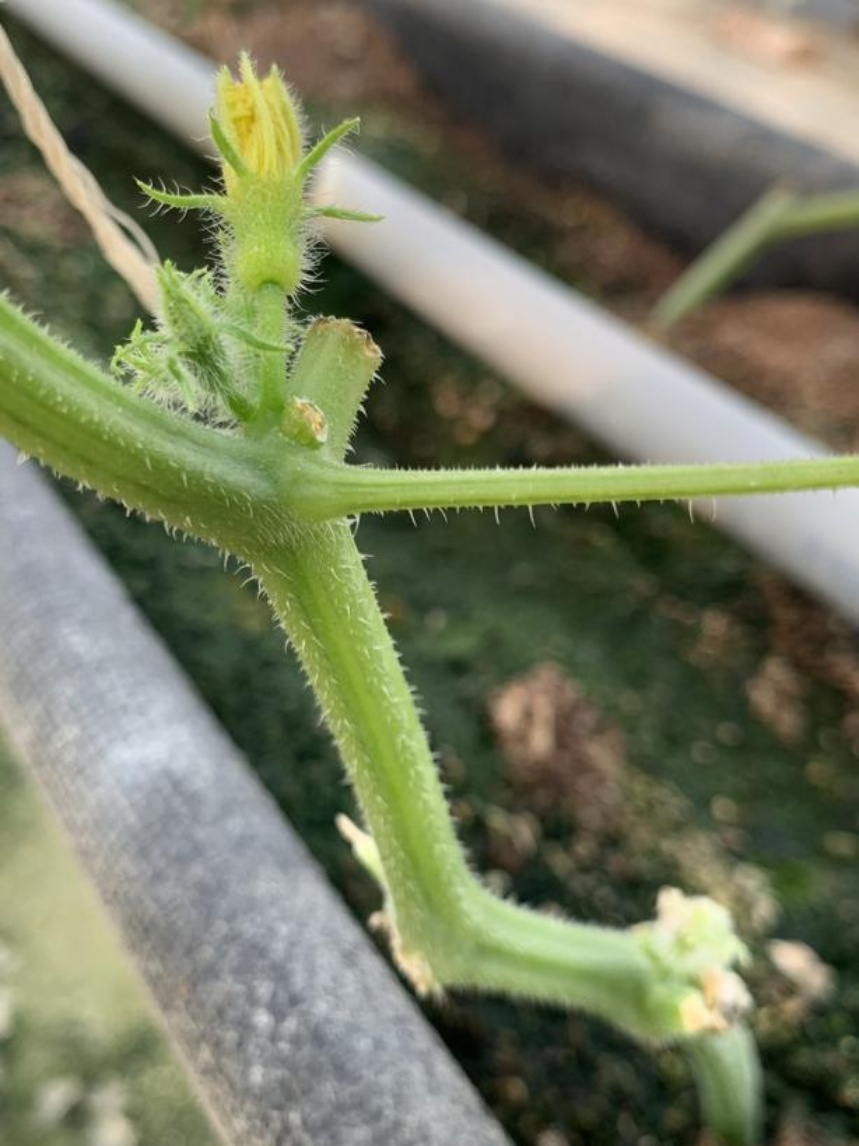bud: (169, 40, 362, 313)
